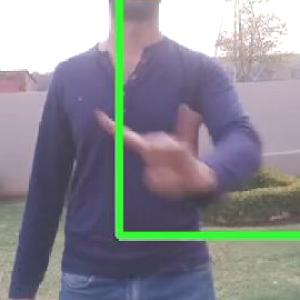takeoff-hand: (93, 97, 207, 201)
